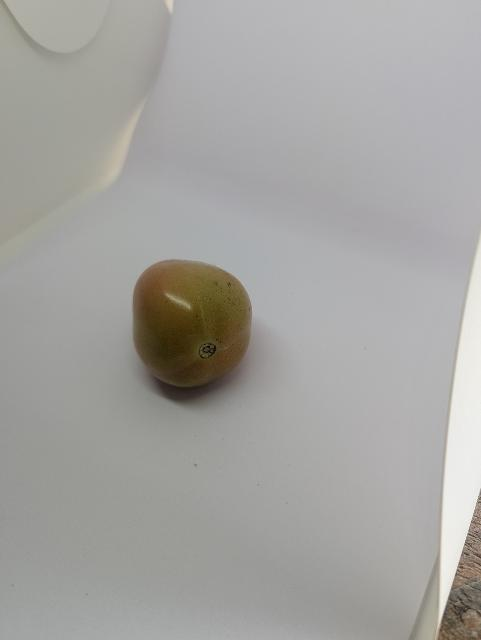breaker: (127, 247, 258, 397)
